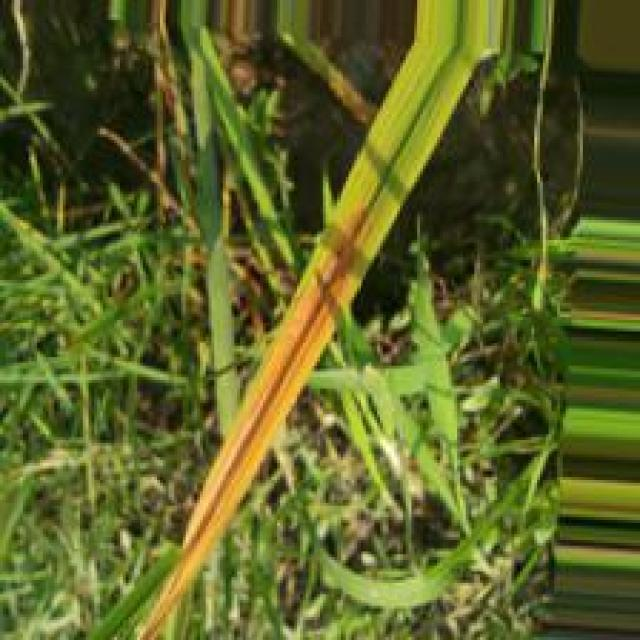Leaf_Blast: (183, 198, 370, 562)
